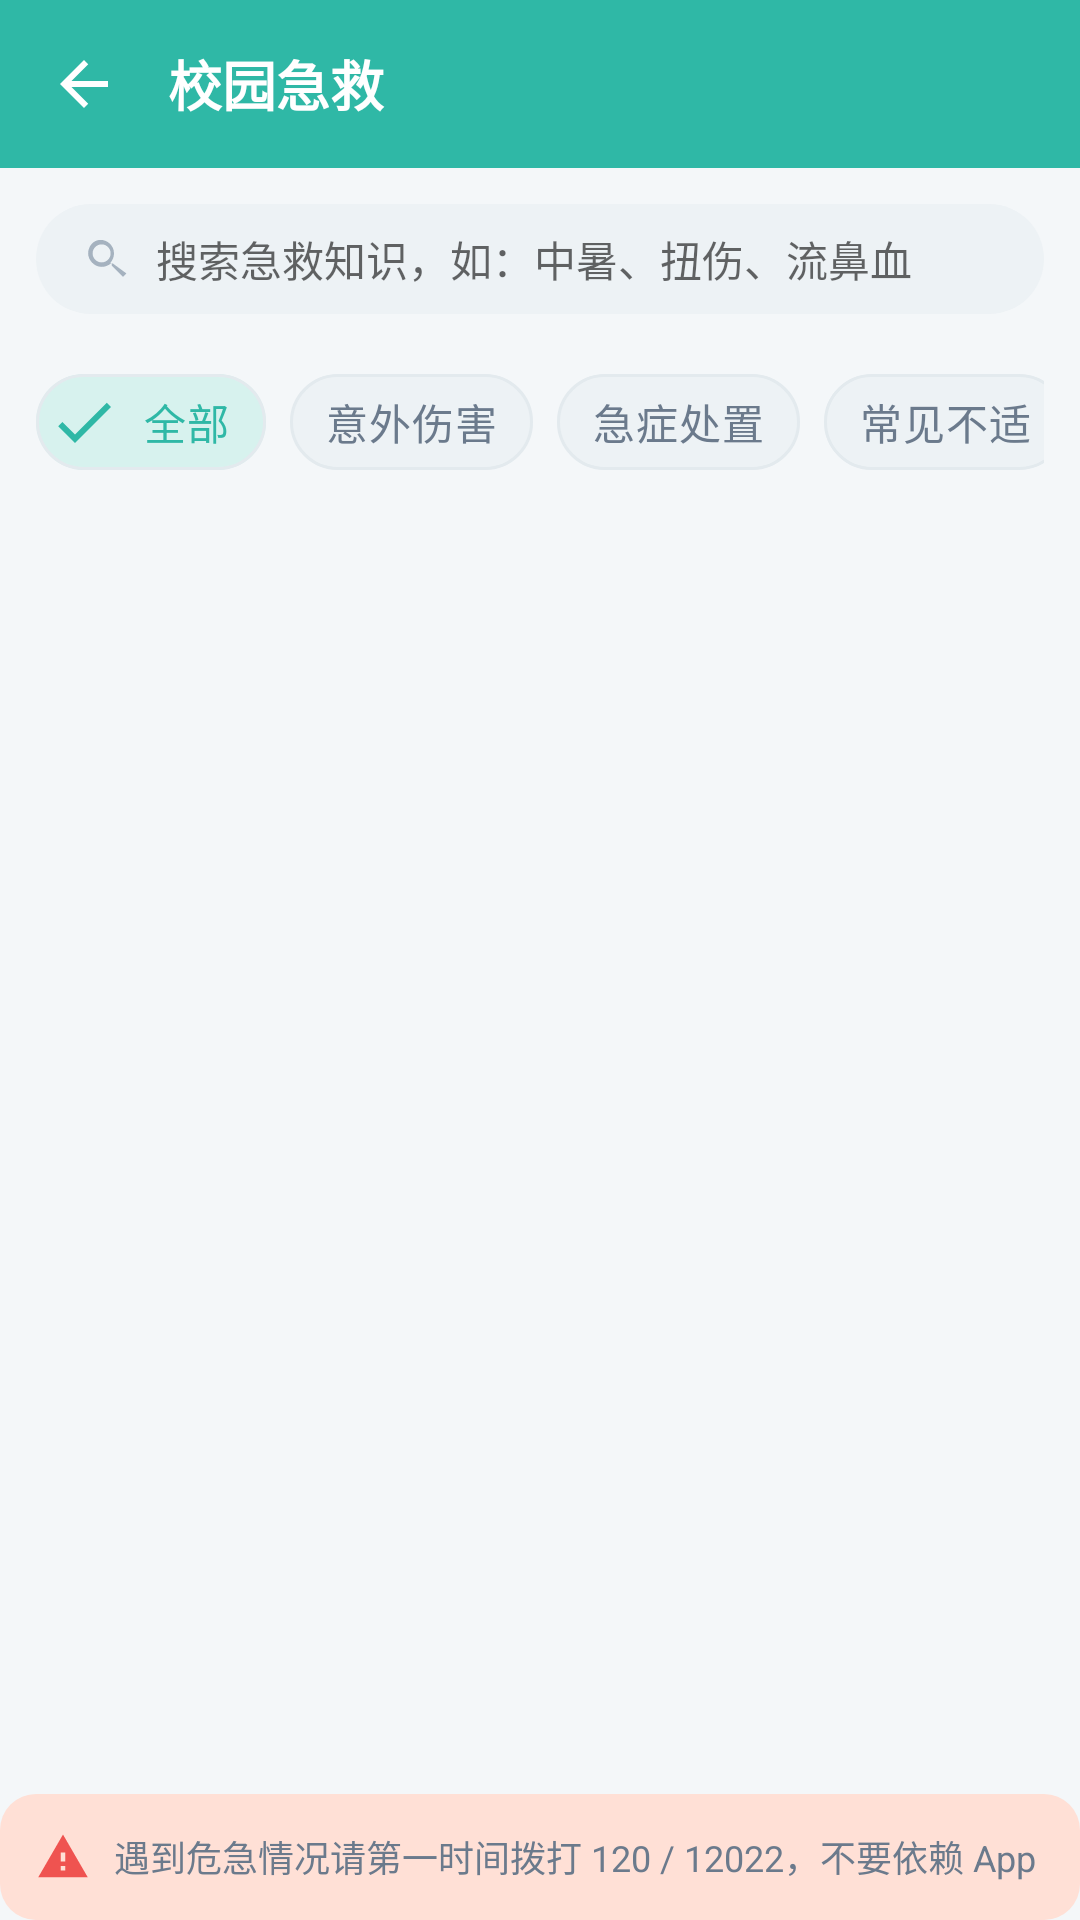

Icon click points for this 1080x1920 phone screenshot, format point (x, y):
返回: point (84, 84)
